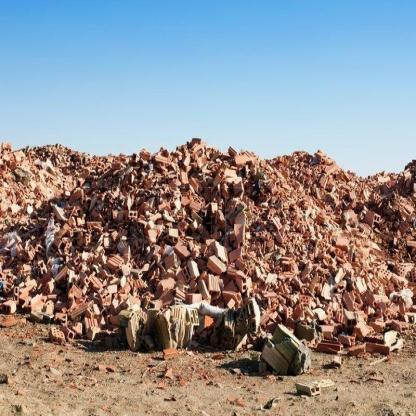brick: (2, 141, 415, 414)
